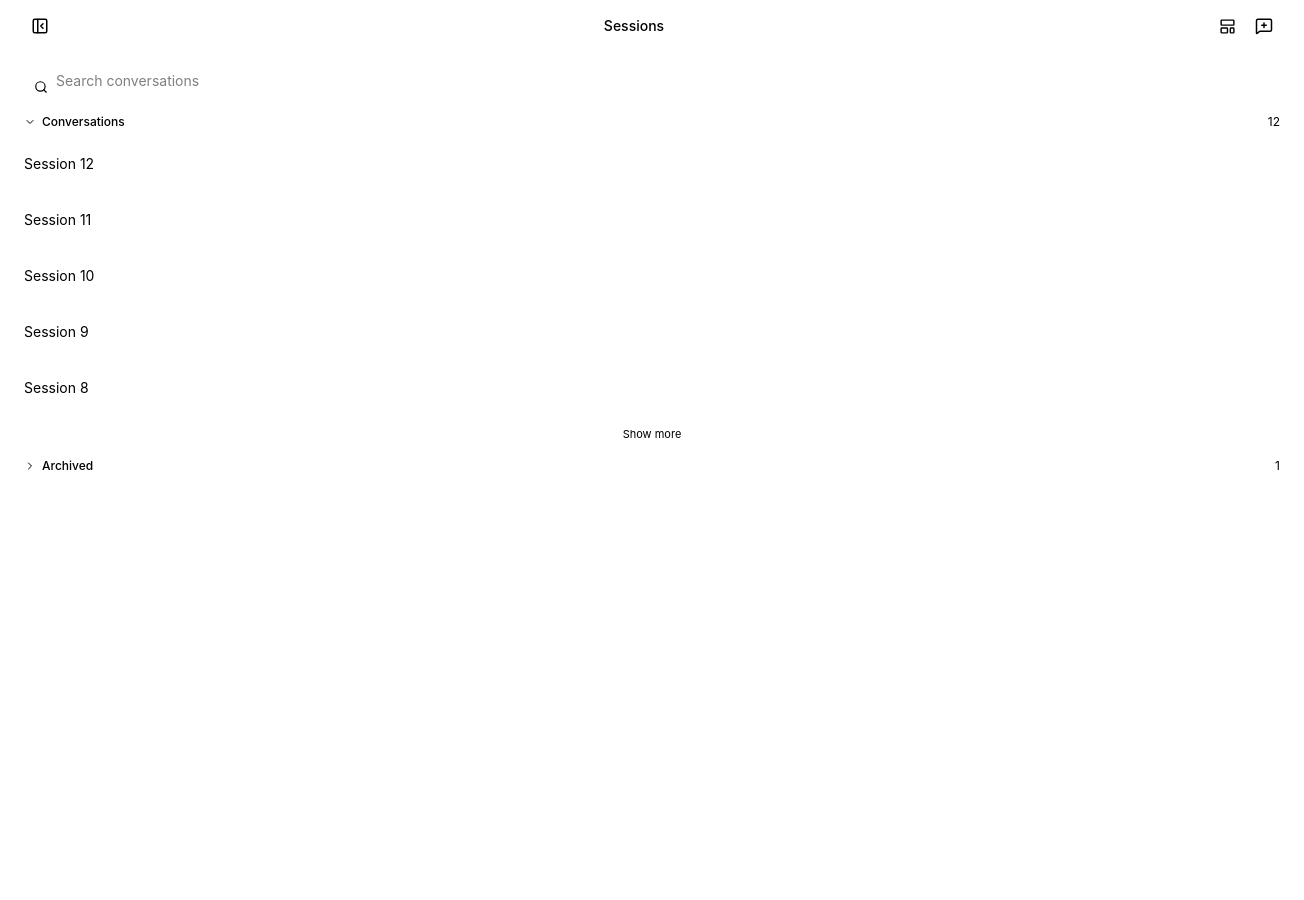
SessionList batching › shows every search match and restores the five-item window after search
This screenshot has width=1304, height=900.
Type "Session" into the field labelled "Search conversations" at (652, 80), box [24,64,1280,96]
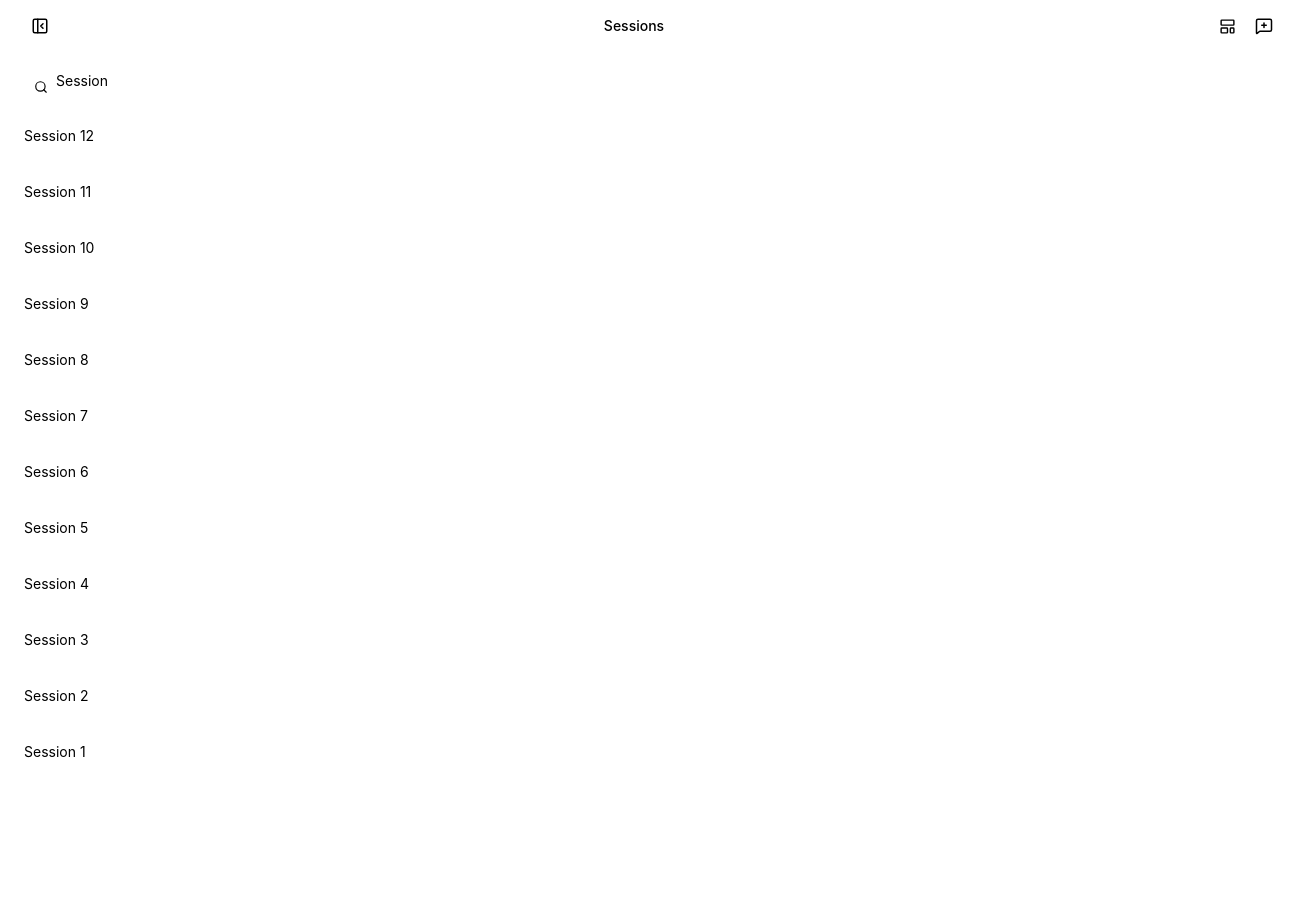
Expected: the text "Session 1" is shown, [24,742,86,762]
Expected: the button "Show more" is gone
Replace the text in the field named "Search conversations" with "Archived target" at (652, 80), box [24,64,1280,96]
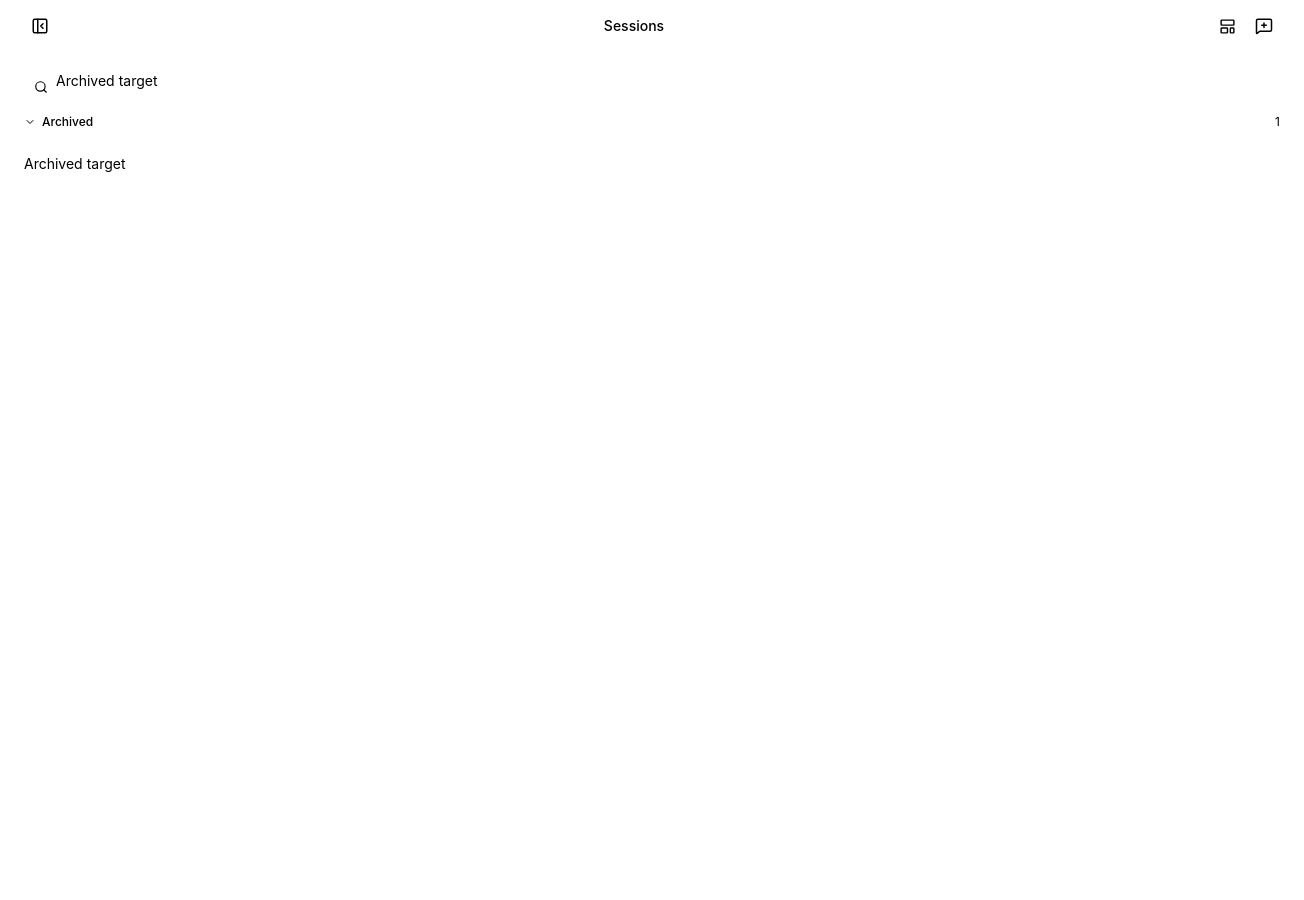
Expected: the text "Archived target" is shown, [24,154,126,174]
Clear the field named "Search conversations" at (652, 80), box [24,64,1280,96]
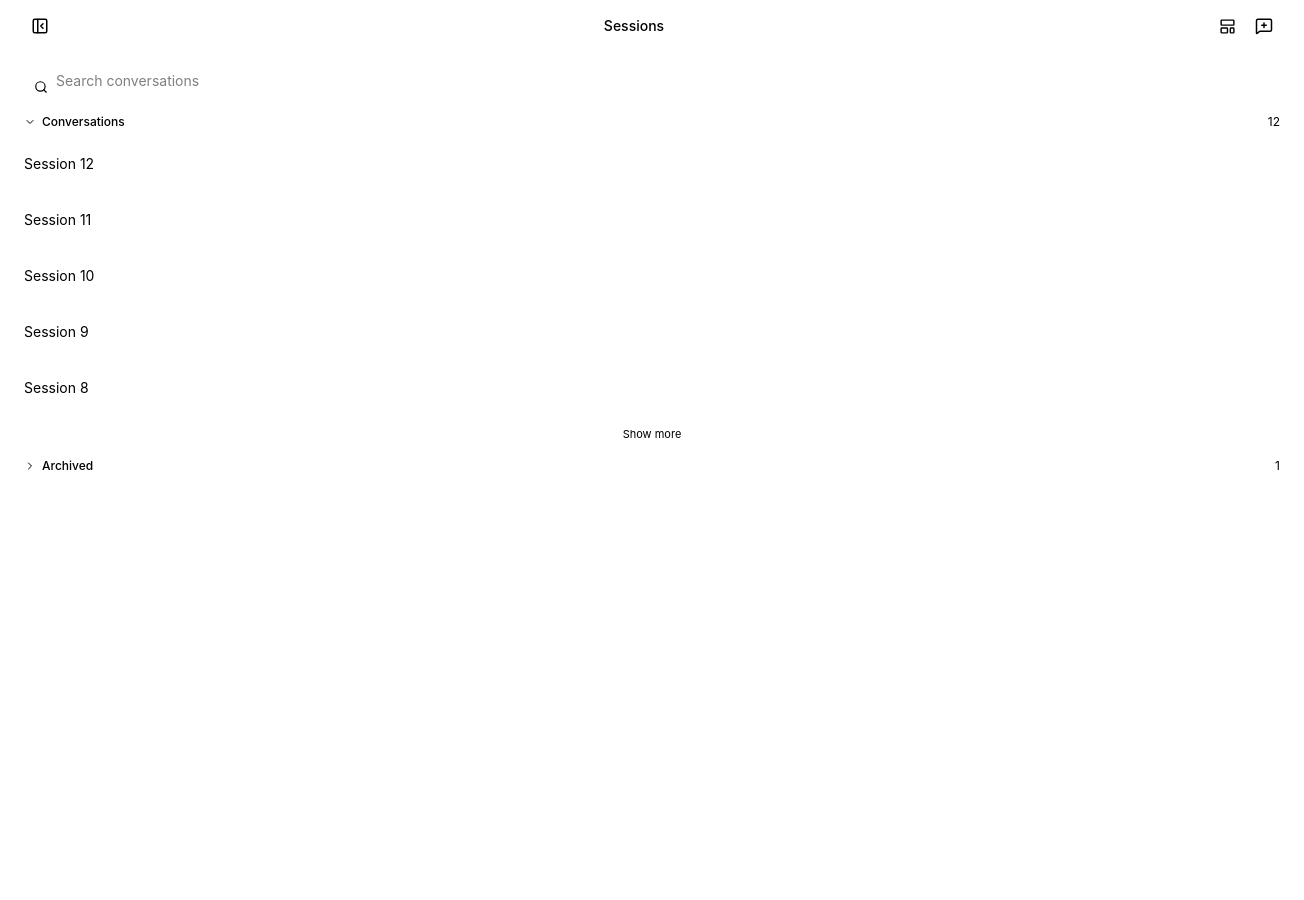
Expected: the button "Session 7" is not shown
Expected: the button "Show more" is shown, [24,420,1280,448]
